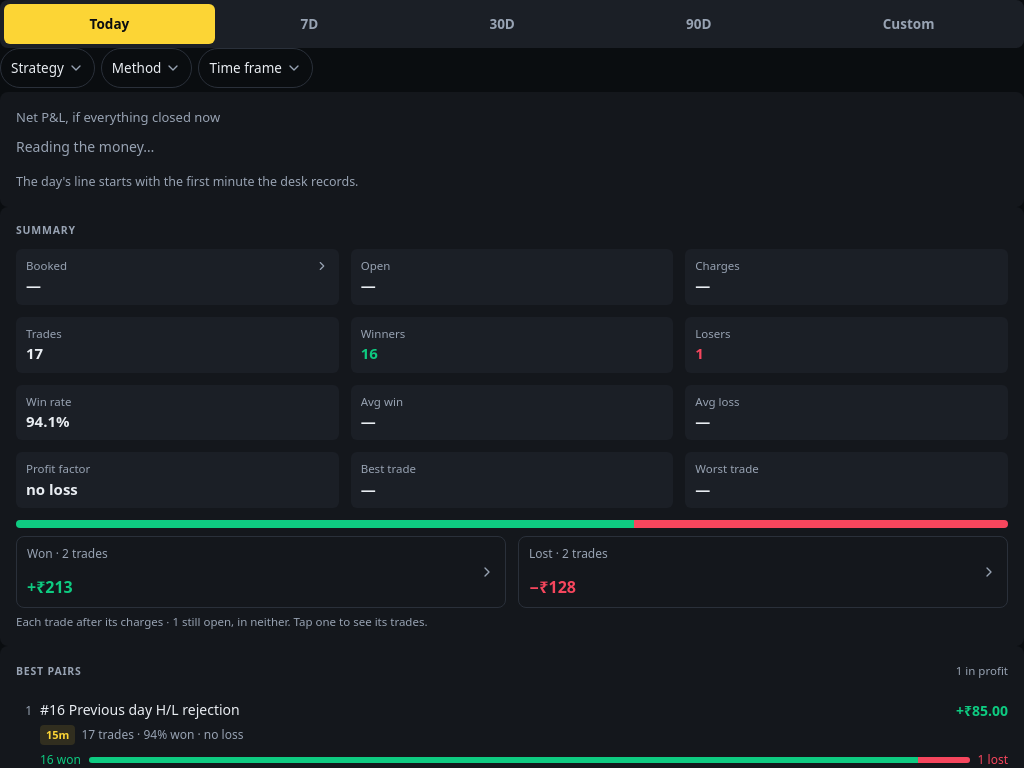
PnlScreen: booked, won and lost, a tap from their trades › [critical] today: Won and Lost count each closed trade after its charges, and a tap opens the day's trades on that side, adding up to the same
Expected: the text "1 still open, in neither" is shown, [16,614,428,629]
What coordinates should you click on to do the following:
click the button "Lost · 2 trades −₹128"
I would click on:
 (585, 554)
Its box is [518,536,1008,608].
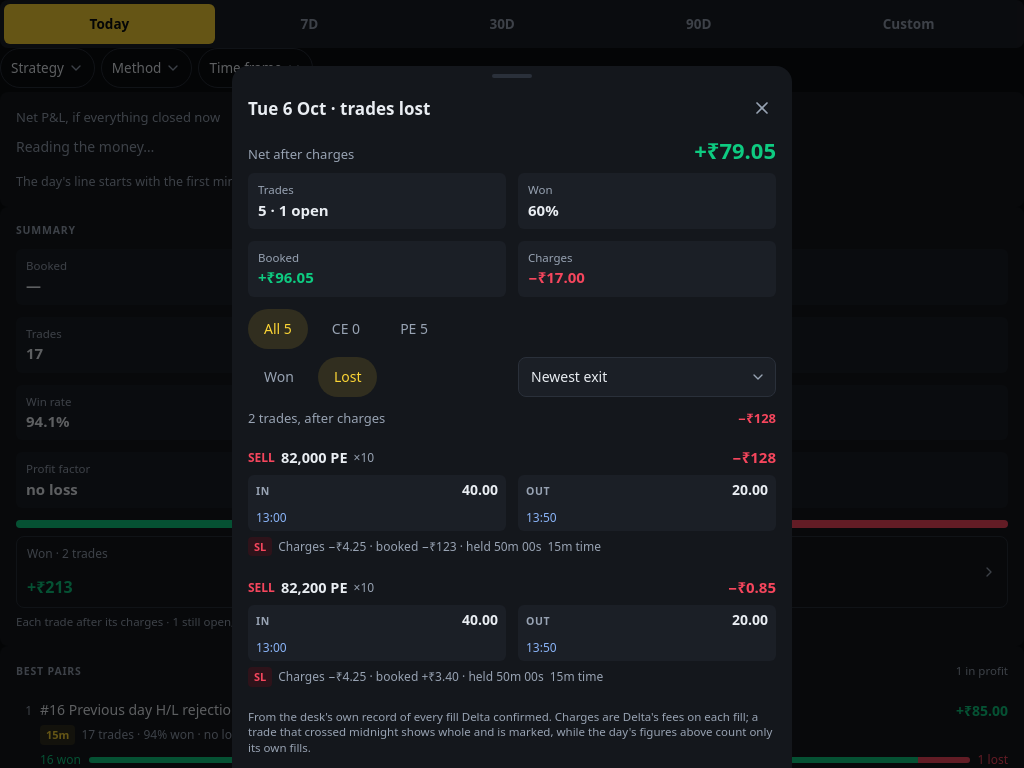
What coordinates should you click on to do the following:
click the button named "Close" in the row of "trades lost"
I would click on:
 (762, 108)
Its box is [740,86,784,130].
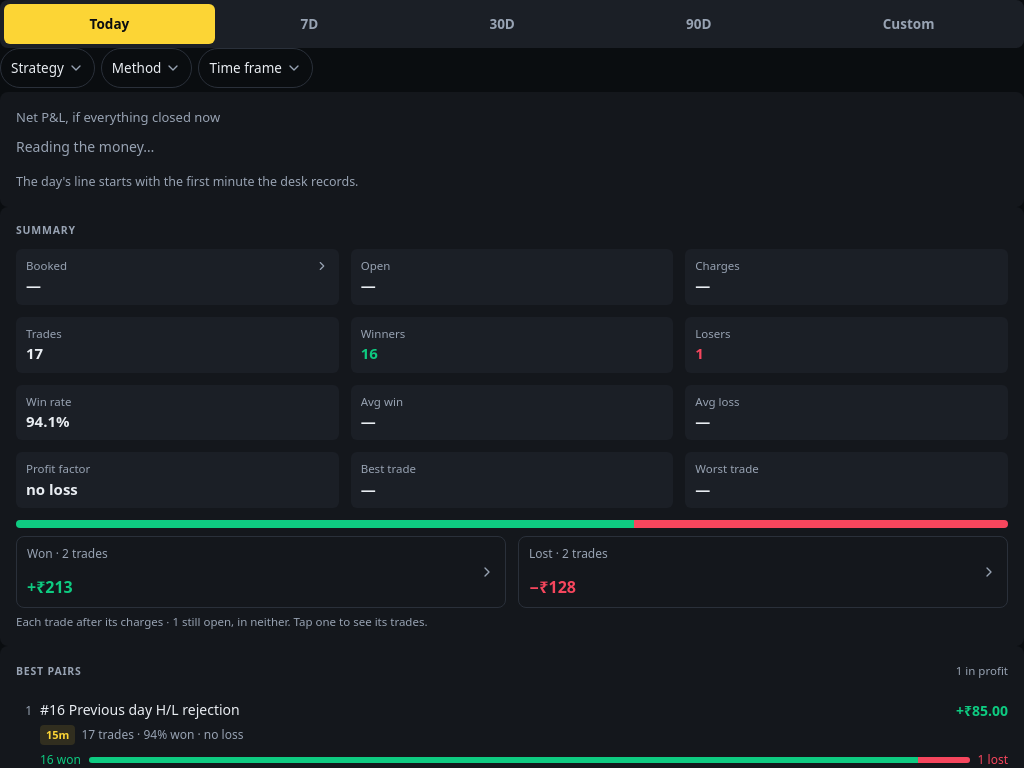
Expected: the dialog is gone
